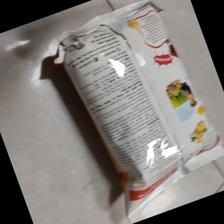Lays: (49, 1, 224, 224)
